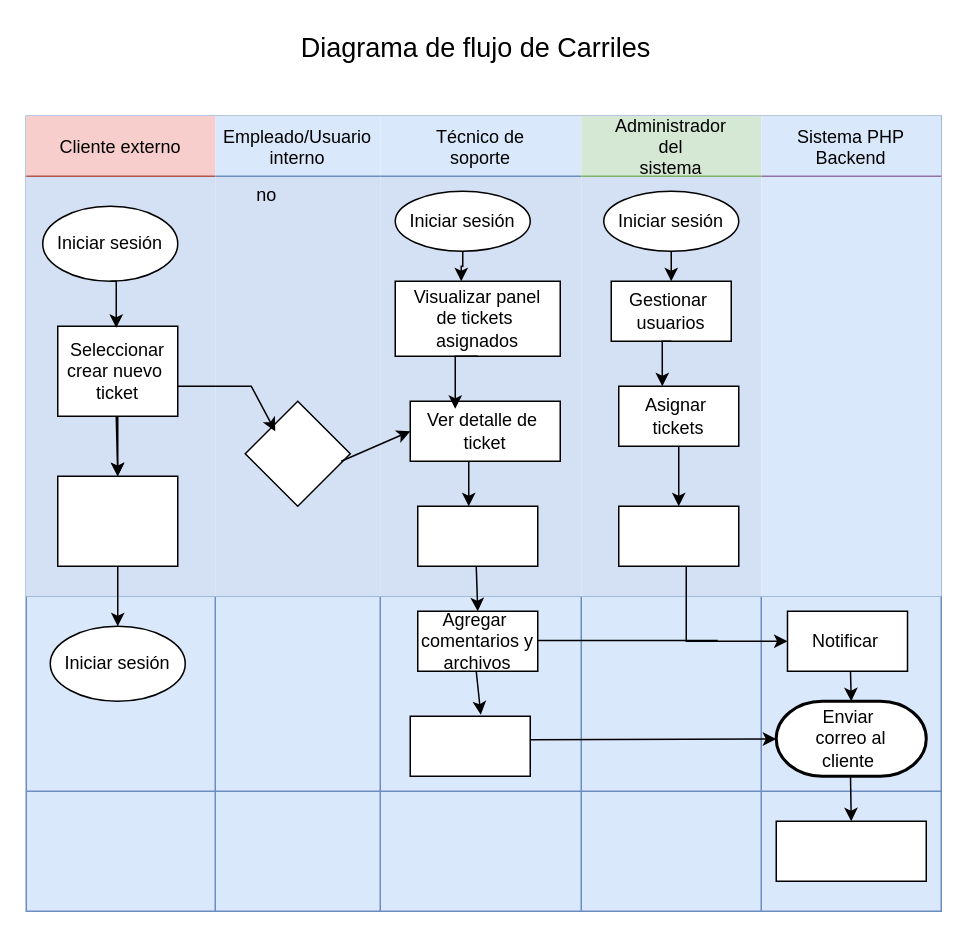
Image size: 968x938. Some labels were removed from this diagram. Each missing label, with the box of its shape:
Actualizar estado del ticket: (416, 505, 538, 566)
Cerrar ticket: (409, 715, 530, 776)
Completar formulario: (56, 475, 178, 566)
Enviar corrección al cliente: (775, 820, 926, 881)
Generar informe: (617, 505, 739, 566)
Ticket valido: (244, 400, 350, 506)
